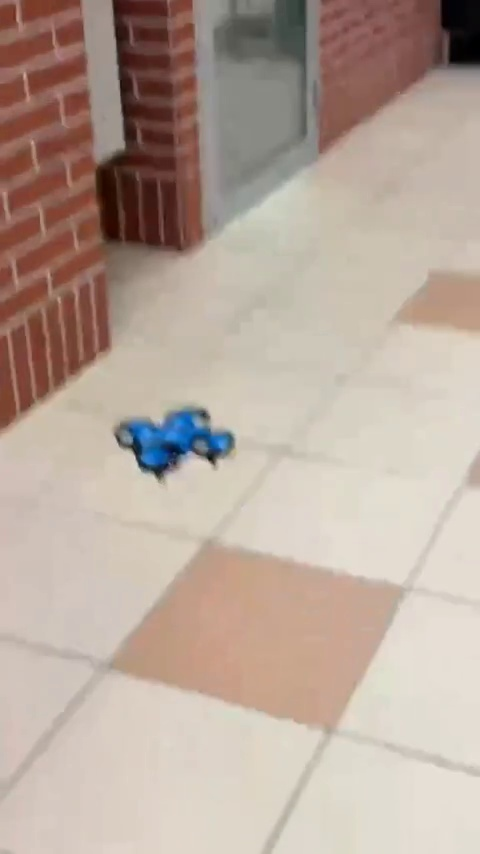drone: (113, 411, 233, 470)
